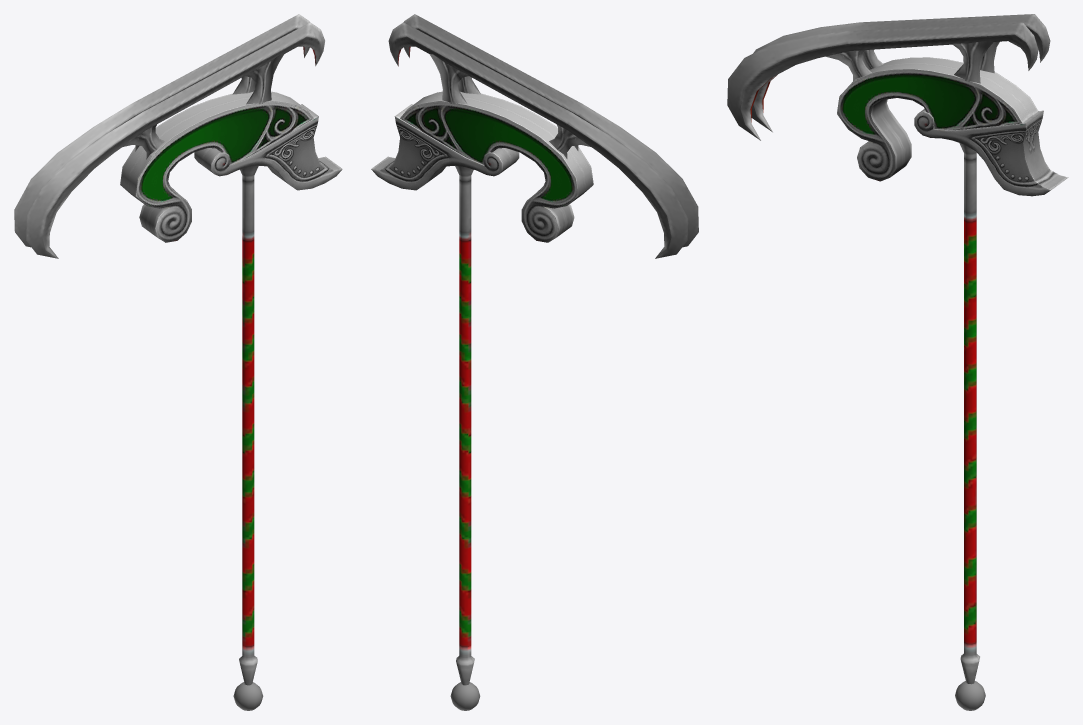
Rendered from Weapon31.FBX.
3 renders of one model, left to right at view 1: azimuth 30°, elevation 25°; view 2: azimuth 150°, elevation 25°; view 3: azimuth 330°, elevation 25°, orthographic. The views are drawn at different scales.
Parts seen in each view (by area): view 1: Weapon31; view 2: Weapon31; view 3: Weapon31.
Part boxes in pixels (x1,y1,x2,y2): Weapon31: (14,14,342,710); Weapon31: (371,14,698,710); Weapon31: (727,14,1068,710).
Bounding box in the file's own units: 106 × 218 × 10.77.
